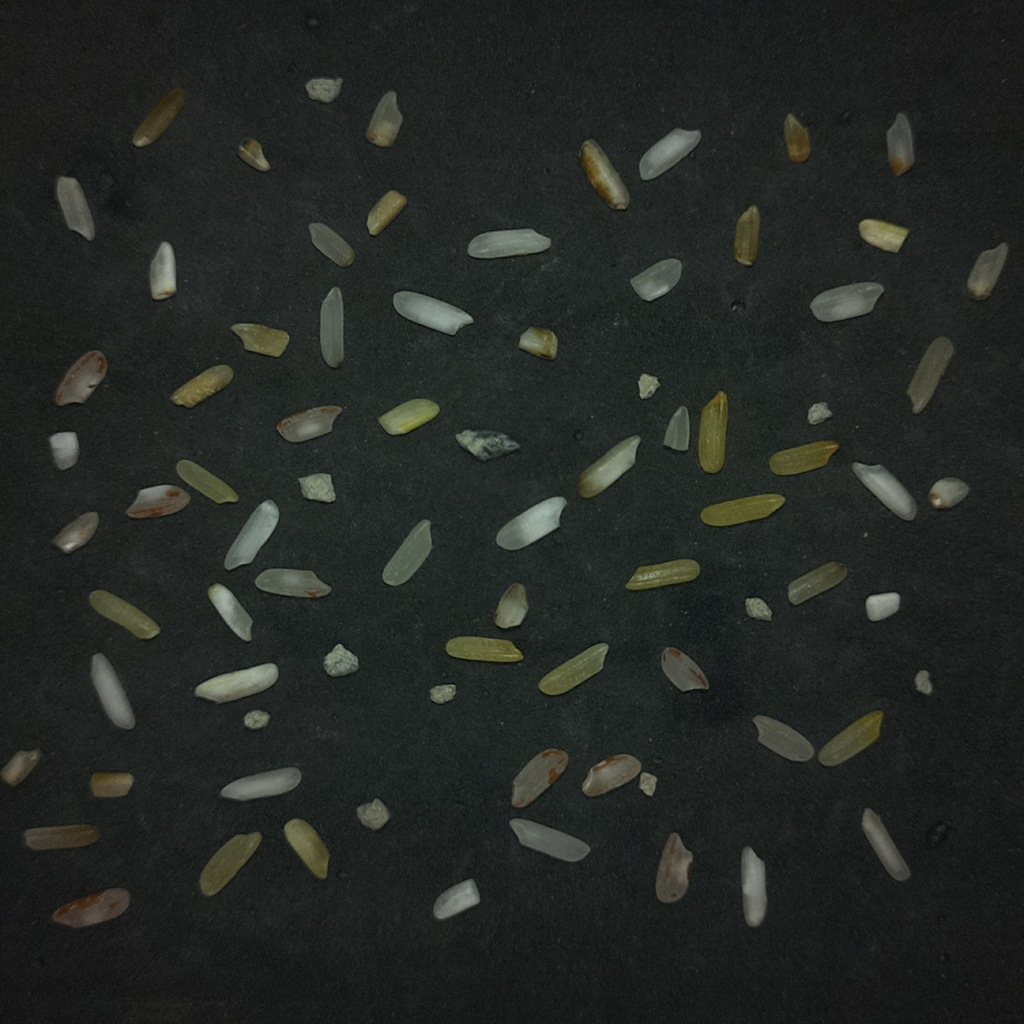broken: (861, 808, 909, 881), (810, 282, 883, 322), (630, 258, 681, 301), (308, 222, 354, 267), (51, 511, 98, 553), (494, 582, 528, 628), (0, 749, 41, 787), (663, 406, 689, 451), (49, 431, 79, 470)
chalky: (851, 462, 916, 521), (496, 497, 566, 550), (224, 500, 277, 568), (392, 291, 473, 335), (194, 663, 278, 703), (91, 654, 134, 727), (639, 128, 700, 179), (220, 767, 301, 801), (207, 583, 252, 641), (467, 228, 550, 258), (741, 846, 766, 927), (432, 879, 479, 919), (865, 593, 900, 621)
damaged: (579, 139, 629, 210), (132, 88, 185, 147), (171, 364, 233, 407), (787, 561, 847, 605), (967, 243, 1008, 300), (366, 91, 403, 147), (23, 824, 99, 850), (366, 190, 406, 236), (886, 112, 914, 175), (149, 241, 176, 300), (784, 113, 810, 162), (929, 477, 969, 508), (518, 328, 556, 359), (91, 772, 133, 798), (237, 139, 270, 171)
discolored: (577, 435, 641, 498), (199, 832, 261, 895), (538, 642, 608, 695), (818, 710, 883, 766), (700, 493, 785, 526), (176, 459, 238, 503), (285, 818, 328, 879), (769, 440, 839, 475), (699, 391, 727, 473), (625, 559, 699, 590), (378, 398, 439, 435), (445, 636, 522, 662), (231, 323, 289, 357), (858, 219, 908, 252), (734, 205, 760, 266)
foreign: (456, 429, 518, 459), (323, 643, 357, 676), (356, 798, 390, 830), (298, 474, 335, 502), (305, 77, 342, 103), (746, 597, 771, 620), (637, 373, 659, 399), (243, 710, 269, 730), (808, 403, 832, 424), (430, 684, 456, 703), (638, 771, 657, 796), (914, 670, 933, 694)
red: (511, 748, 568, 808), (52, 888, 129, 927), (54, 350, 107, 405), (655, 832, 693, 903), (276, 405, 342, 442), (582, 755, 641, 796), (255, 567, 330, 598), (126, 484, 189, 518), (660, 647, 708, 691)
whole: (906, 337, 953, 413), (509, 818, 589, 862), (89, 589, 159, 639), (382, 520, 431, 585), (753, 715, 813, 762), (56, 177, 94, 240), (319, 286, 343, 367)
